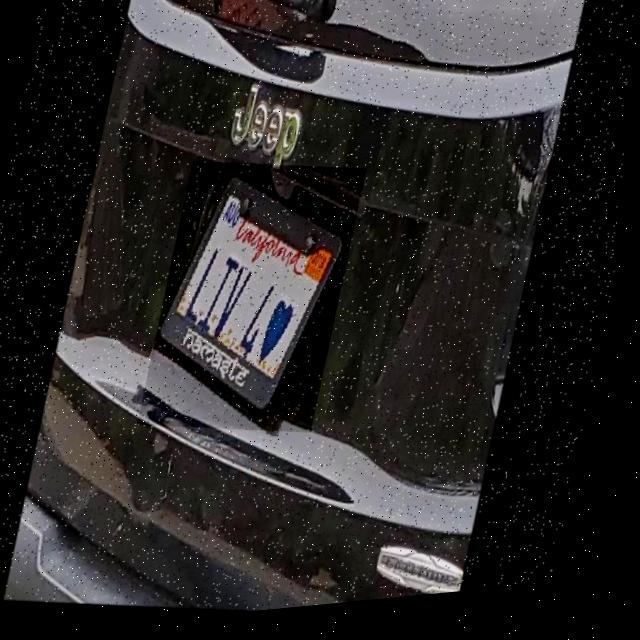LicensePlate: (142, 152, 371, 453)
